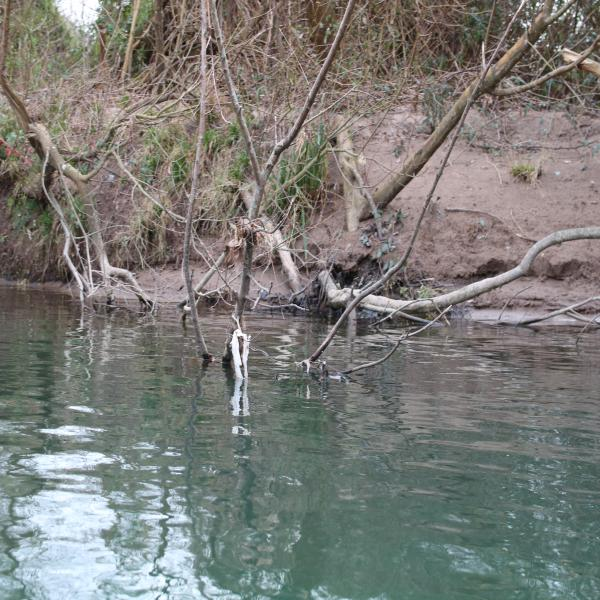fragments: (229, 326, 251, 381)
